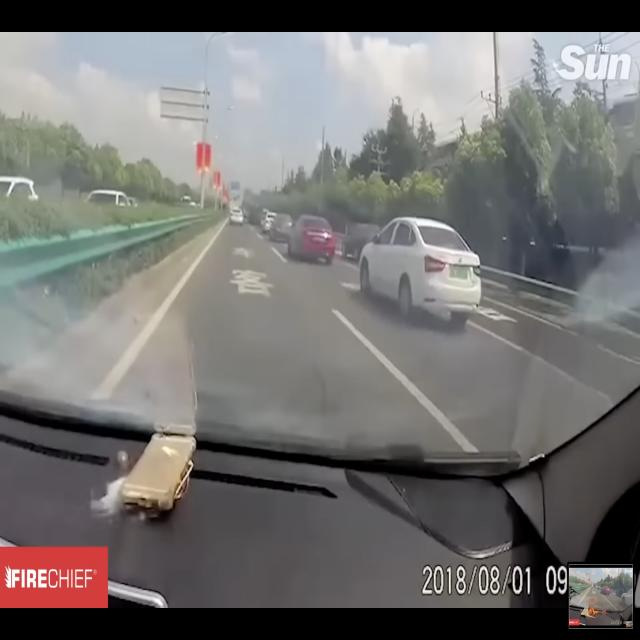Atencao: (76, 321, 226, 549)
